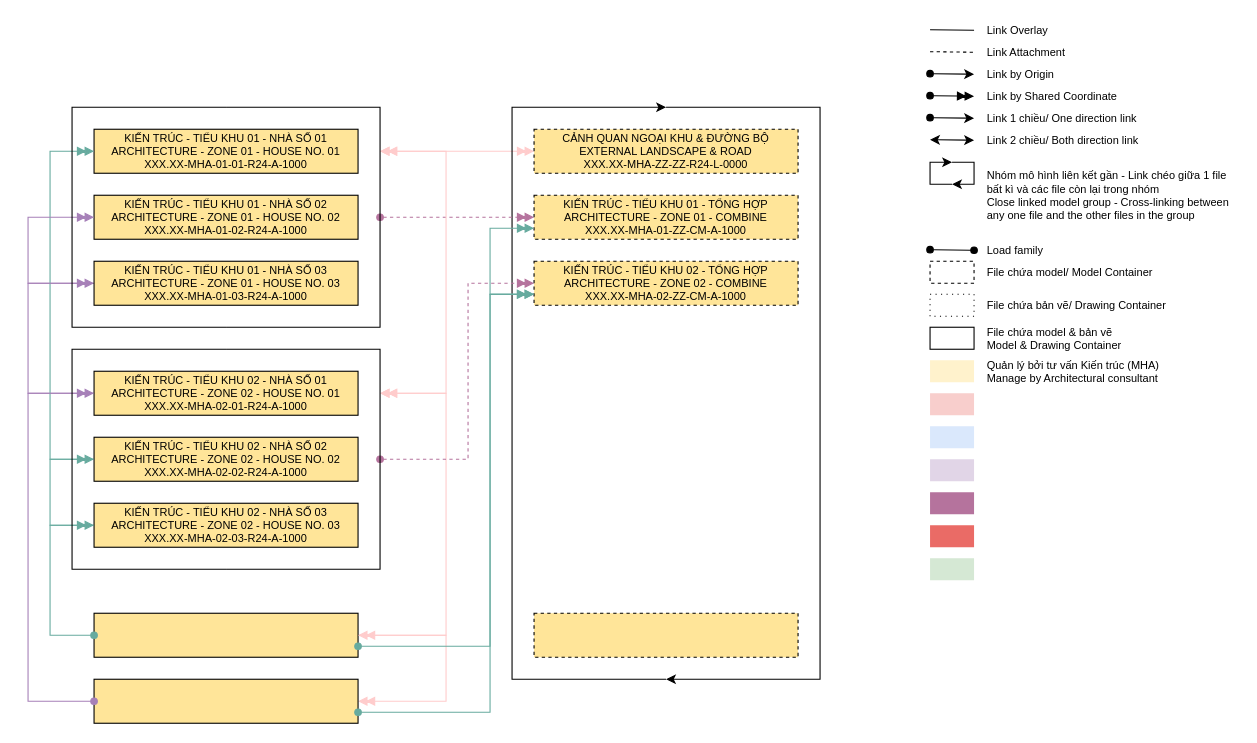
Image size: 1257x743. Some labels were removed from this diagram. Each missing label, with the centre of its shape:
"KIẾN TRÚC - MẪU NHÀ 01 ARCHITECTURE - HOUSE TYPE 01 XXX.XX-MHA-ZZ-ZZ-R24-A-1000" belongs at point (225, 634).
"KIẾN TRÚC - MẪU NHÀ 02 ARCHITECTURE - HOUSE TYPE 02 XXX.XX-MHA-ZZ-ZZ-R24-A-2000" belongs at point (225, 700).
"KIẾN TRÚC - TỔNG HỢP ARCHITECTURE - COMBINE XXX.XX-MHA-ZZ-ZZ-CM-A-1000" belongs at point (665, 634).
